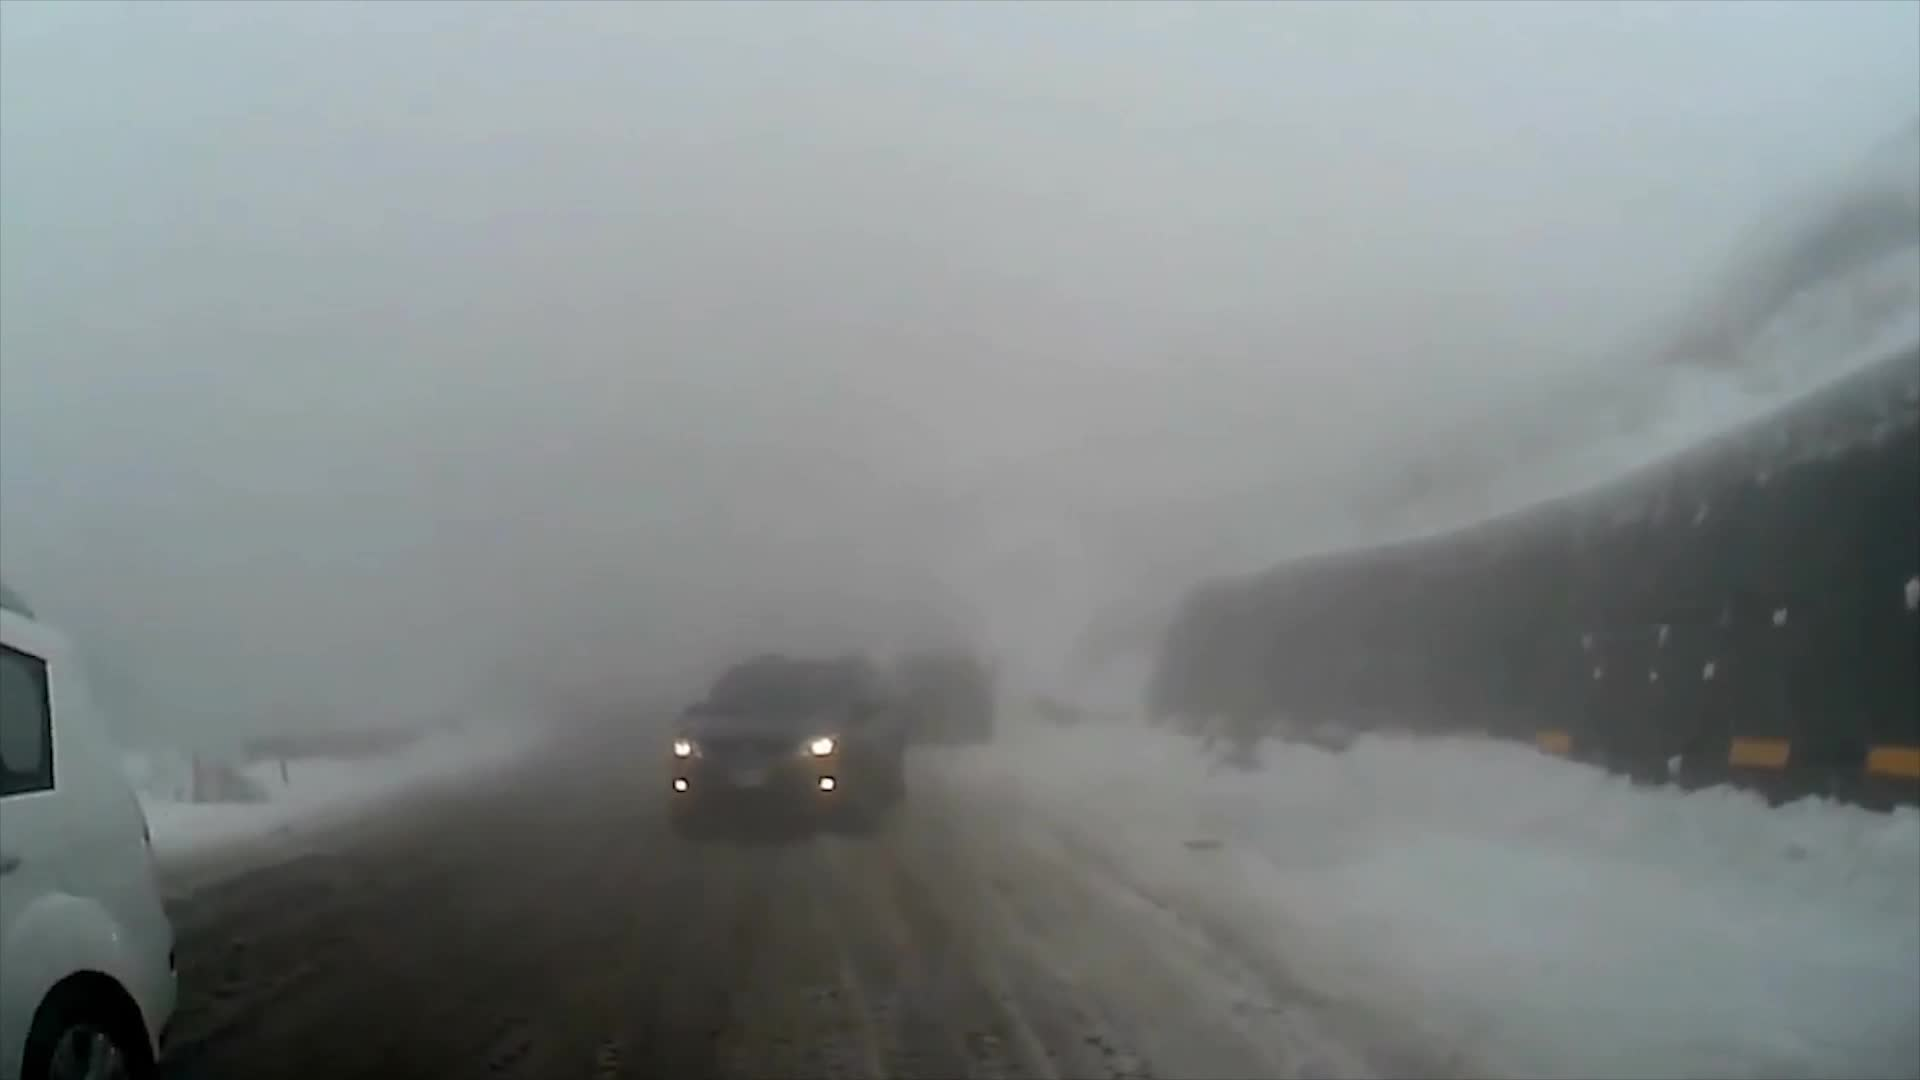vehicle: (0, 576, 179, 1079), (669, 651, 909, 837)
